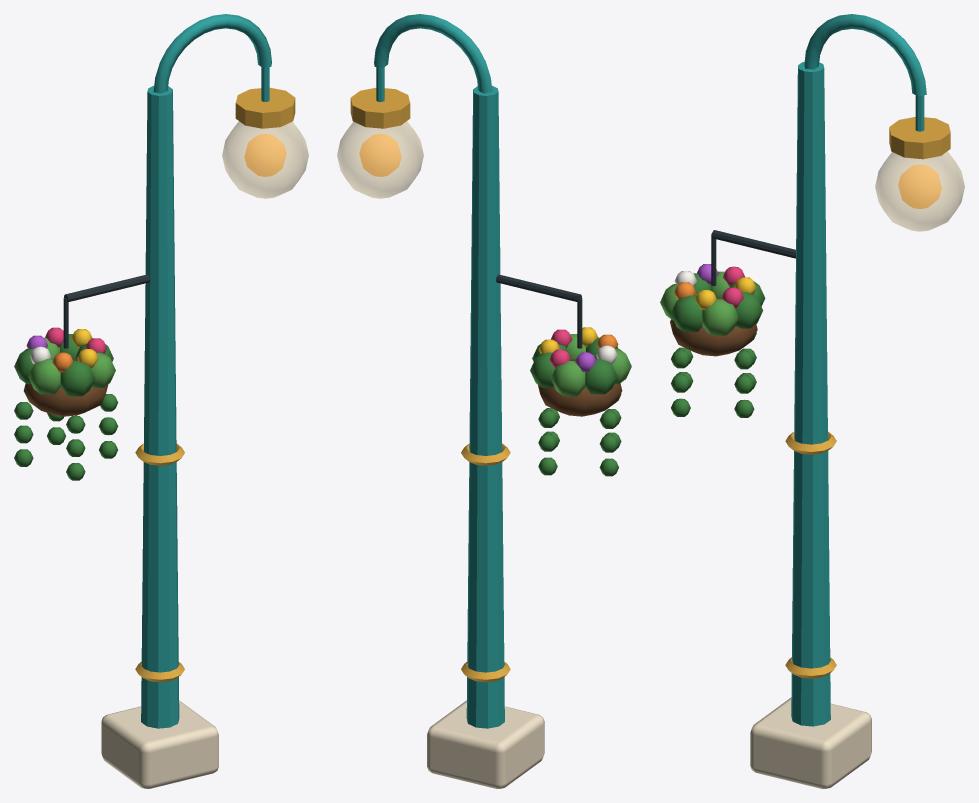
File: rt_garden_lamp.glb
3 views of the same model, side by side, from view 1: azimuth 30°, elevation 25°; view 2: azimuth 150°, elevation 25°; view 3: azimuth 330°, elevation 25° (orthographic). The views are drawn at different scales.
Visible parts, largest first — view 1: rt_garden_lamp_body; view 2: rt_garden_lamp_body; view 3: rt_garden_lamp_body.
Part boxes in pixels (box(x1,y1,x2,y2)): rt_garden_lamp_body: box(14, 14, 308, 788); rt_garden_lamp_body: box(337, 14, 631, 788); rt_garden_lamp_body: box(660, 14, 964, 788).
Size of the model in its own units: 1.49 by 3.76 by 0.4725.
